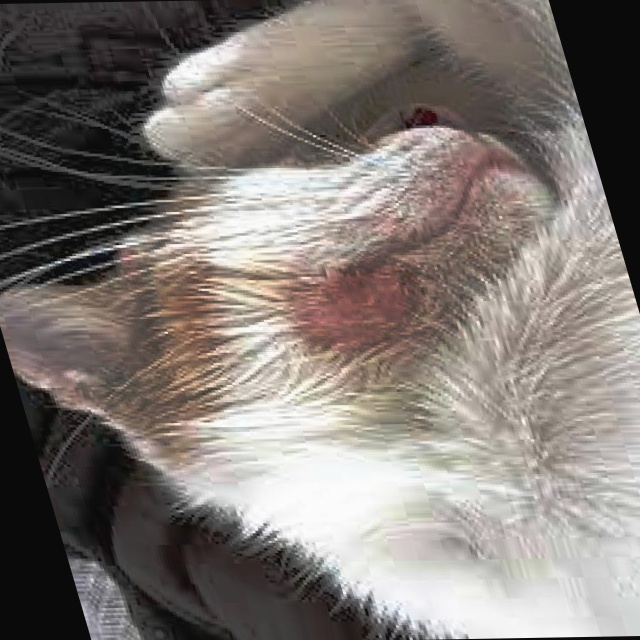ringworm: (292, 256, 429, 349)
